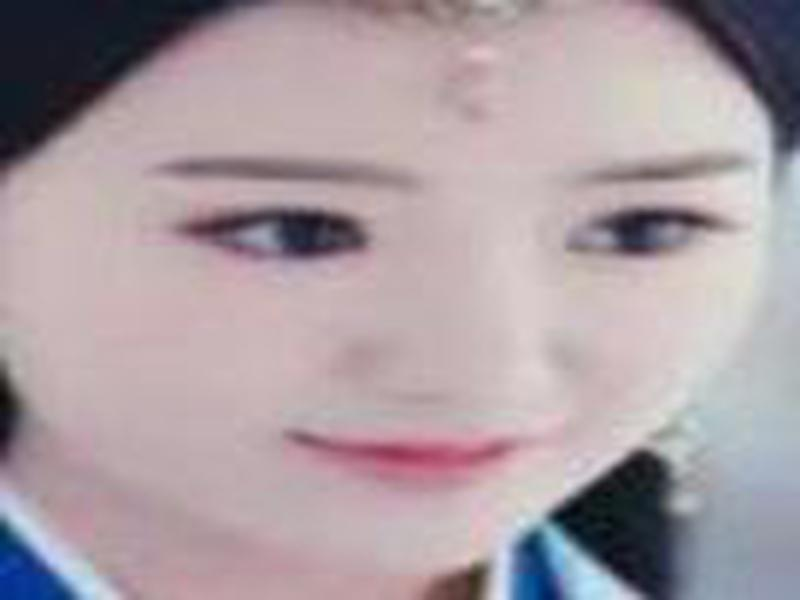without_mask: (14, 19, 778, 568)
